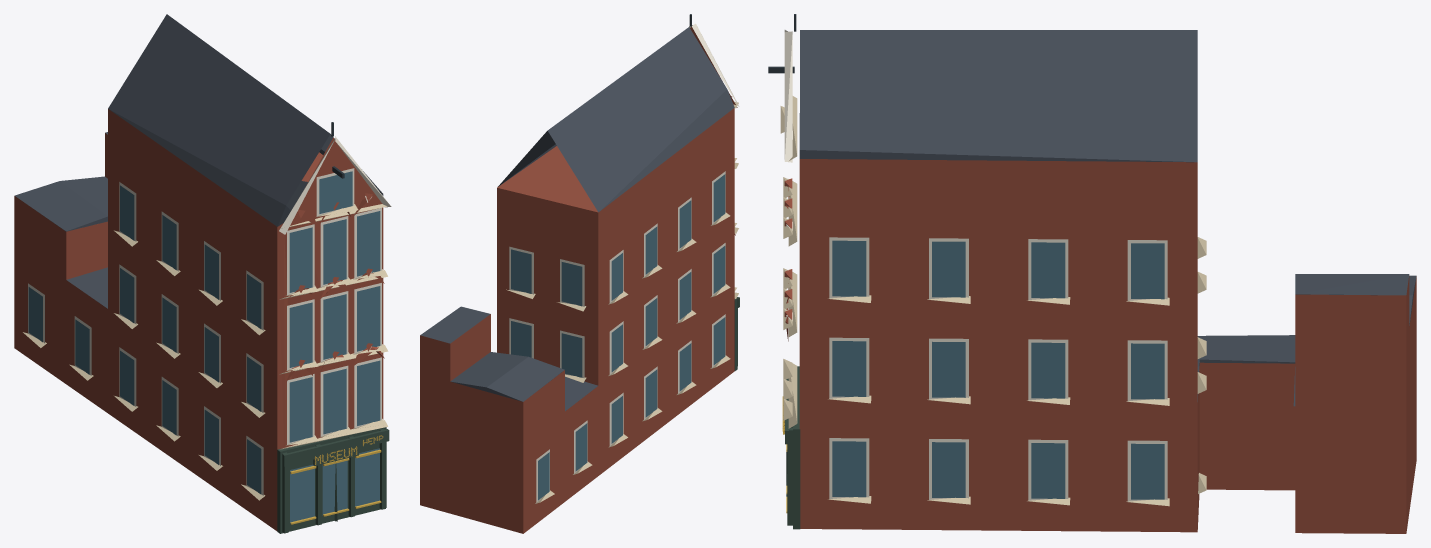
File: hash-marihuana-hemp-museum.lod1.glb
3 views of the same model, side by side, from view 1: azimuth 30°, elevation 25°; view 2: azimuth 150°, elevation 25°; view 3: azimuth 270°, elevation 25° (orthographic). The views are drawn at different scales.
Visible parts, largest first — view 1: hash-marihuana-hemp-museum; view 2: hash-marihuana-hemp-museum; view 3: hash-marihuana-hemp-museum.
Part boxes in pixels (<box>): hash-marihuana-hemp-museum: <box>14,14,391,533</box>; hash-marihuana-hemp-museum: <box>420,14,739,533</box>; hash-marihuana-hemp-museum: <box>768,14,1416,533</box>.
Bounding box in the file's own units: 6.04 × 17.34 × 21.08.
